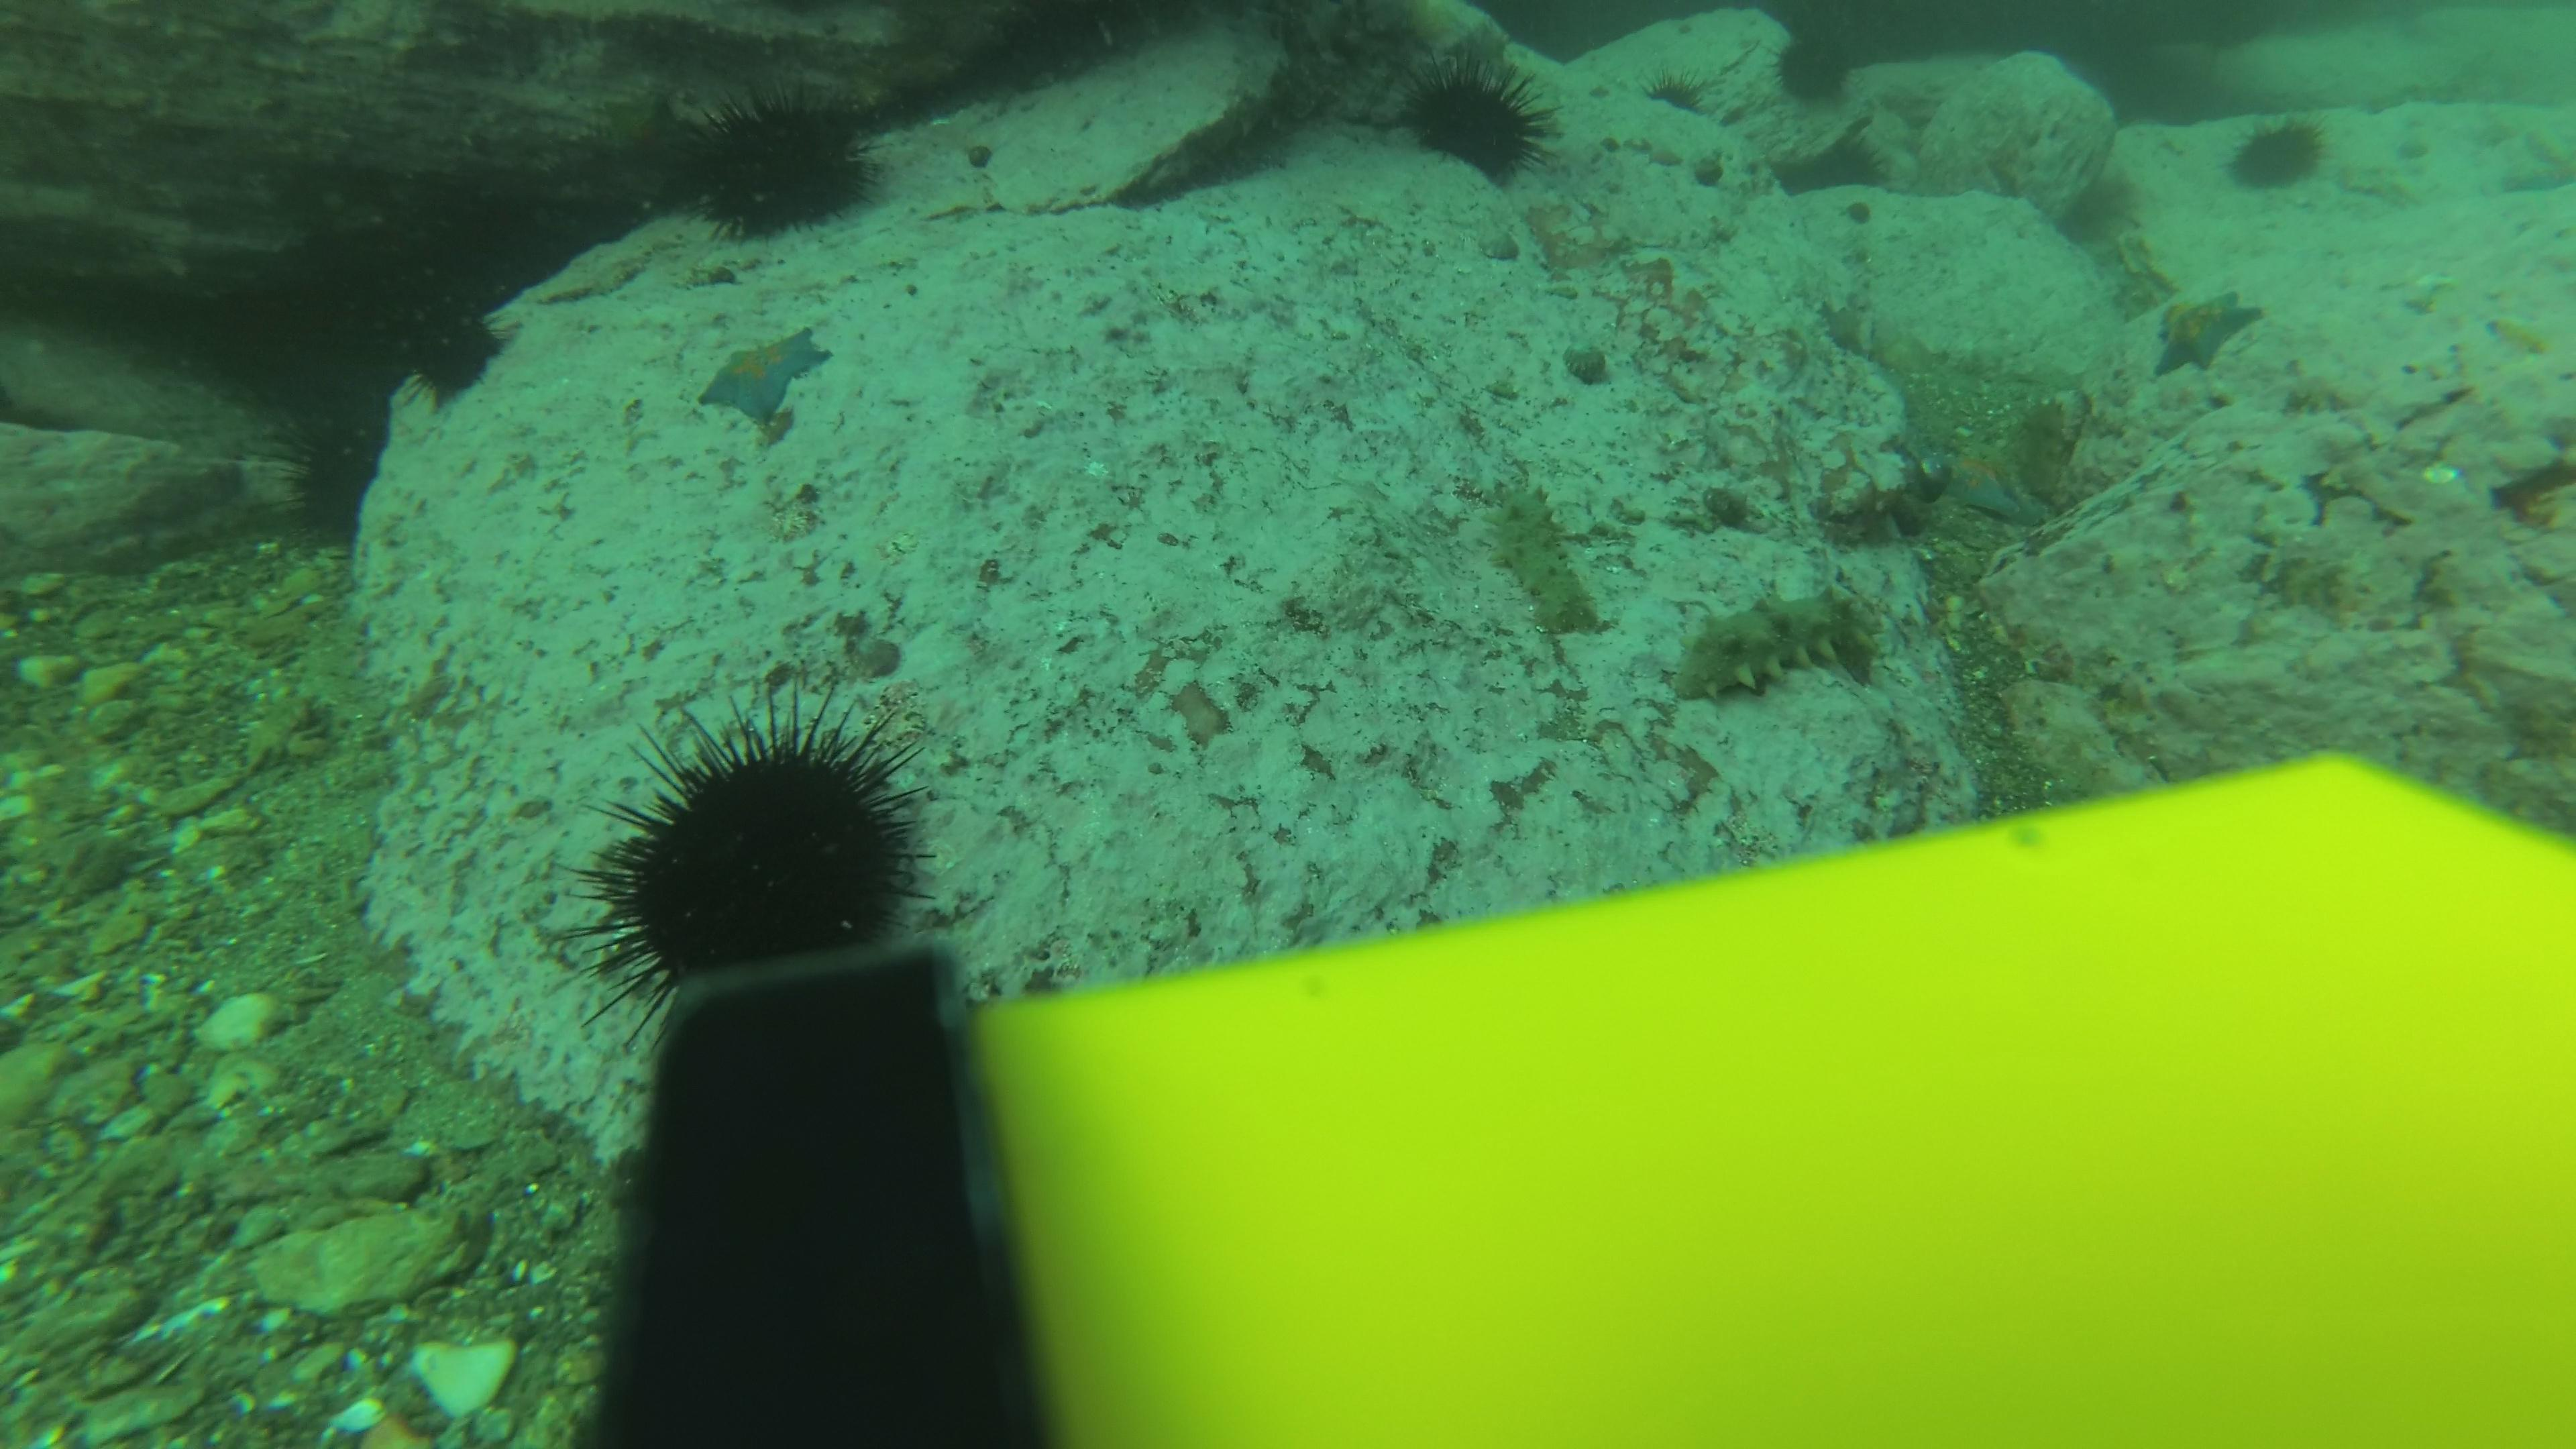urchin: (564, 704, 1014, 970), (688, 97, 876, 237), (1405, 55, 1587, 196), (1762, 34, 1872, 103), (2240, 126, 2328, 200)
